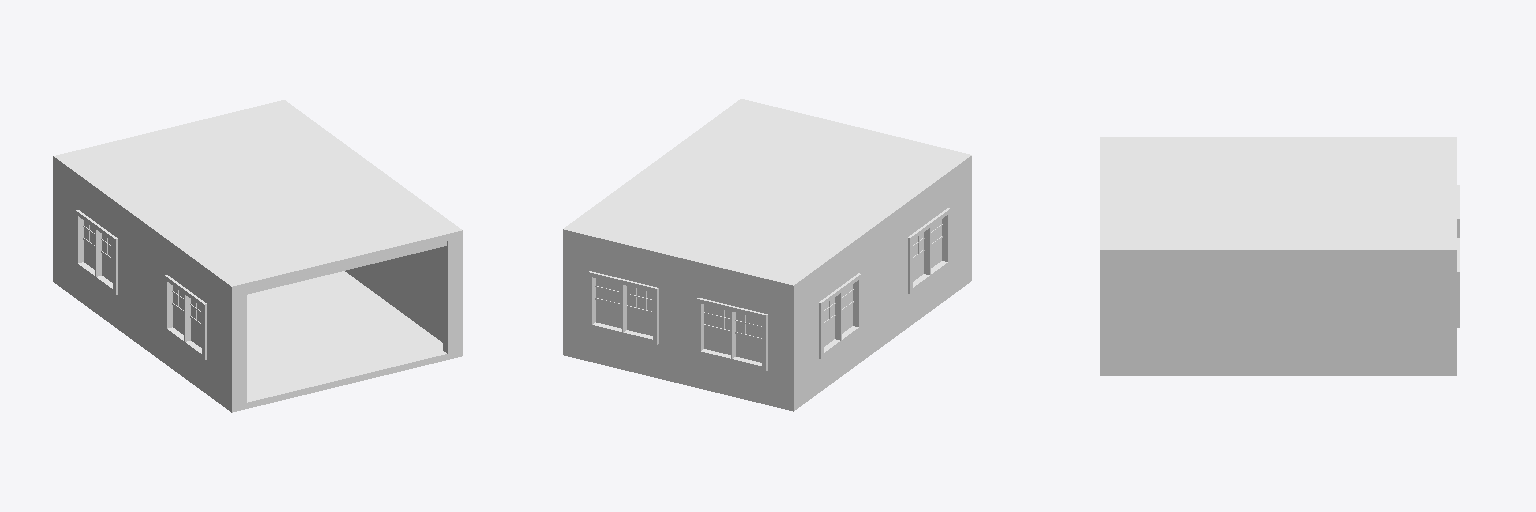
3 renders of one model, left to right at view 1: azimuth 30°, elevation 25°; view 2: azimuth 150°, elevation 25°; view 3: azimuth 270°, elevation 25°, orthographic.
Parts seen in each view (by area): view 1: object_56, object_55, object_2, object_54, object_3, object_20, object_19, object_8, object_16, object_17, object_6, object_1; view 2: object_56, object_1, object_2, object_55, object_14, object_15, object_18, object_24, object_20, object_19, object_16, object_17; view 3: object_56, object_54, object_55, object_1.
Part boxes in pixels (x1,y1,x2,y2): object_56: (53, 100, 462, 292); object_55: (53, 271, 462, 412); object_2: (58, 166, 239, 405); object_54: (345, 237, 462, 351); object_3: (443, 244, 454, 353); object_20: (164, 275, 206, 360); object_19: (75, 210, 117, 294); object_8: (247, 241, 446, 294); object_16: (84, 221, 112, 282); object_17: (173, 286, 201, 347); object_6: (240, 295, 246, 403); object_1: (53, 163, 57, 278); object_56: (563, 99, 971, 291); object_1: (563, 236, 797, 404); object_2: (798, 162, 971, 401); object_55: (563, 275, 971, 411); object_14: (704, 305, 761, 362); object_15: (596, 278, 652, 335); object_18: (588, 271, 658, 344); object_24: (697, 298, 767, 370); object_20: (908, 208, 949, 293); object_19: (819, 273, 860, 358); object_16: (824, 285, 852, 346); object_17: (913, 219, 941, 281); object_56: (1100, 137, 1456, 255); object_54: (1100, 256, 1447, 369); object_55: (1100, 370, 1456, 375); object_1: (1448, 256, 1456, 369).
Bounding box in the file's own units: 8.06 × 4.15 × 10.75.